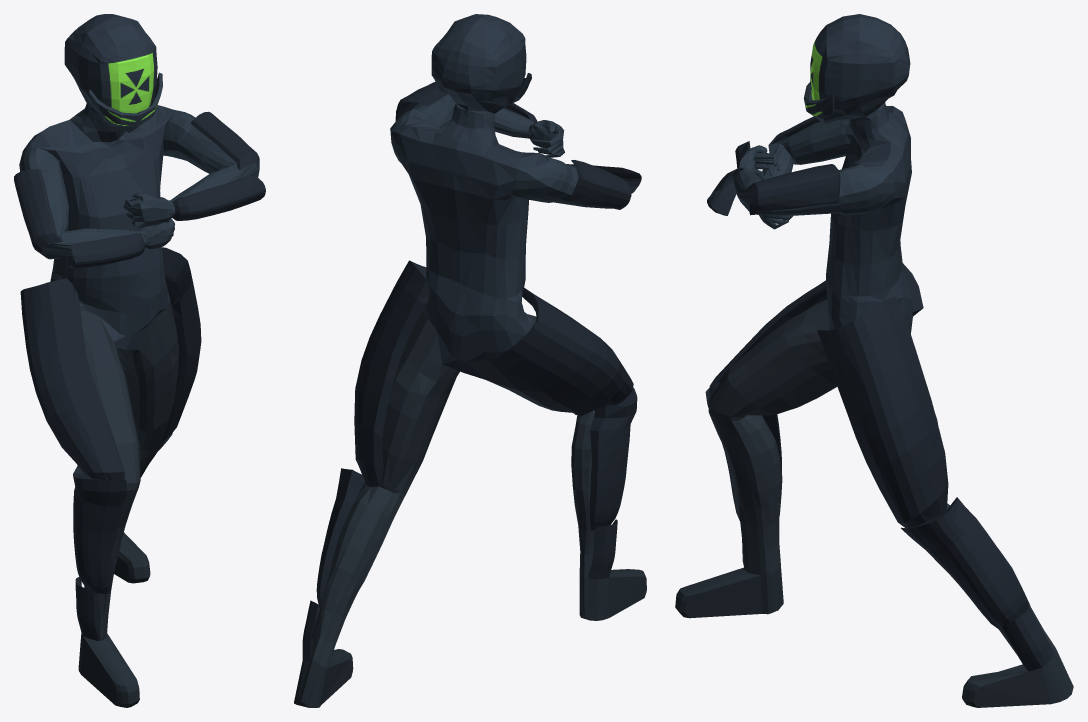
Rendered from Bastion_WB_000003.obj.
3 views of the same model, side by side, from view 1: azimuth 30°, elevation 25°; view 2: azimuth 150°, elevation 25°; view 3: azimuth 270°, elevation 25° (orthographic). The views are drawn at different scales.
Visible parts, largest first — view 1: Cube.002; view 2: Cube.002; view 3: Cube.002.
Boxes of the visible parts, <box> form: Cube.002: <box>14,14,265,707</box>; Cube.002: <box>294,14,646,707</box>; Cube.002: <box>675,14,1073,707</box>.
Bounding box in the file's own units: 1.31 × 3.61 × 2.02.
